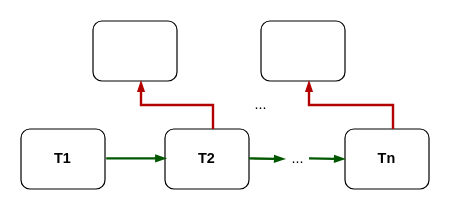
Some shapes in this 450 by 210 pixel diagram are drawn without their labels. The centre of each missing label's shape, as x and y in pixels:
"C1" goes at pixel 134 50.
"Cn-1" goes at pixel 302 50.
